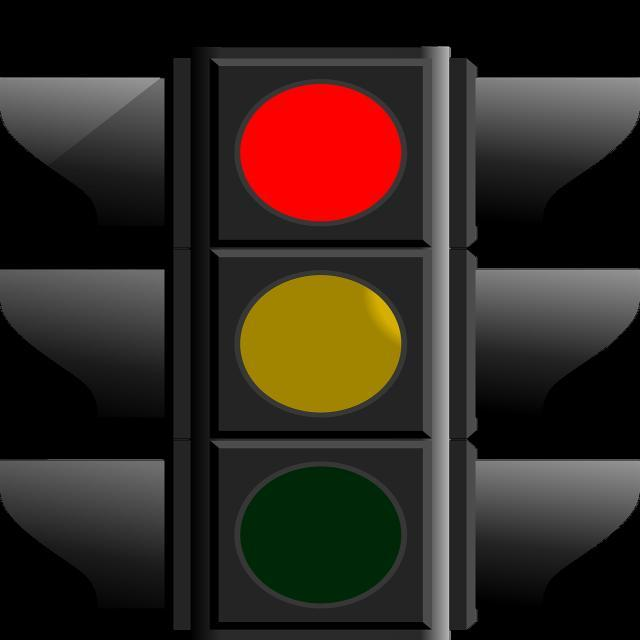suv: (184, 56, 450, 640)
